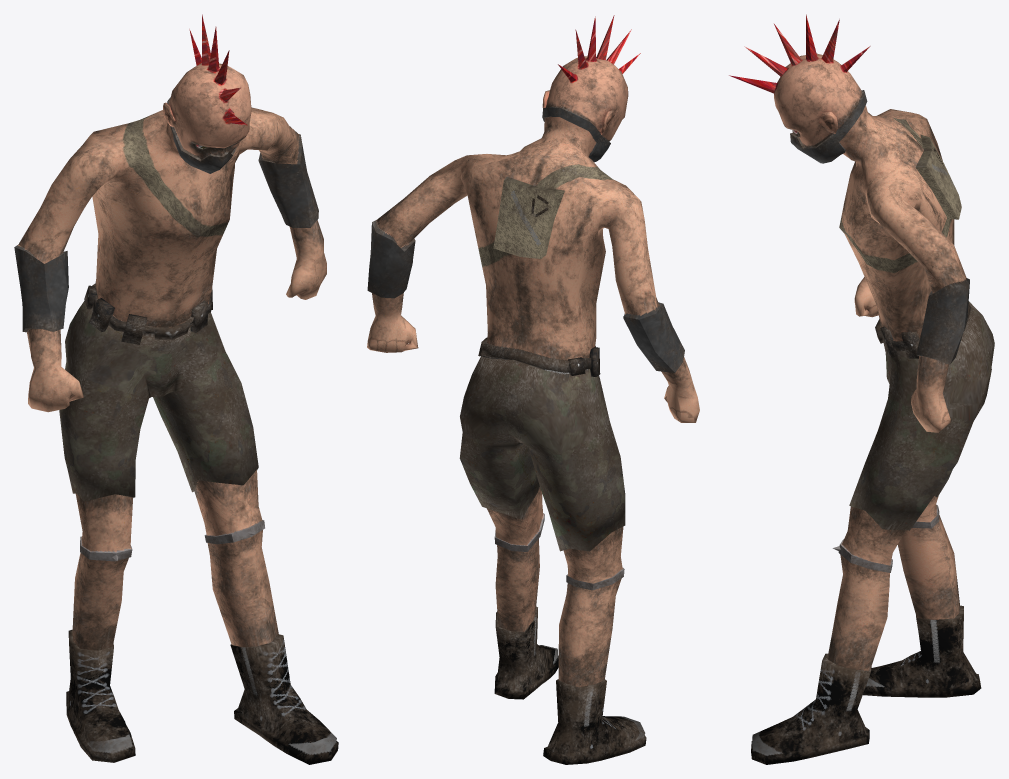
Rendered from Anim_cogerobjeto_npc2.0021.obj.
3 renders of one model, left to right at view 1: azimuth 30°, elevation 25°; view 2: azimuth 150°, elevation 25°; view 3: azimuth 270°, elevation 25°, orthographic. The views are drawn at different scales.
Visible parts, largest first — view 1: polySurface1; view 2: polySurface1; view 3: polySurface1.
Boxes of the visible parts, bbox=[...] form: polySurface1: bbox=[14, 14, 338, 764]; polySurface1: bbox=[367, 15, 699, 764]; polySurface1: bbox=[729, 14, 994, 764].
Size of the model in its own units: 4.52 by 9.77 by 3.34.
